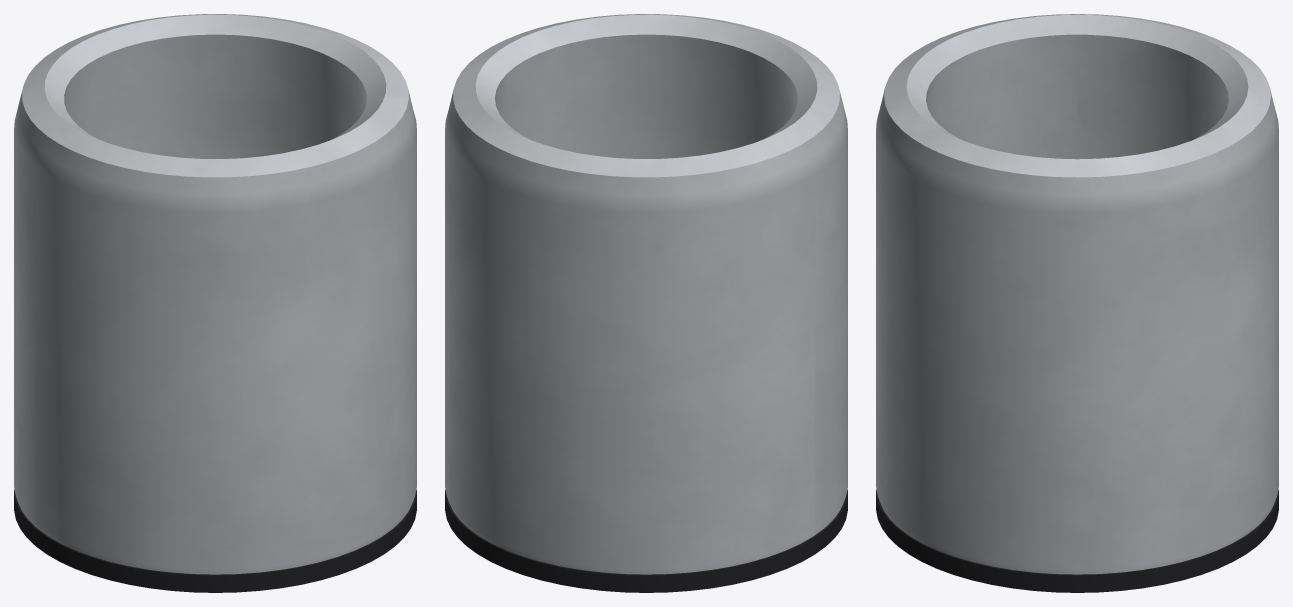
Rendered from jet06_pitot_intake.glb.
3 renders of one model, left to right at view 1: azimuth 30°, elevation 25°; view 2: azimuth 150°, elevation 25°; view 3: azimuth 270°, elevation 25°, orthographic.
Parts seen in each view (by area): view 1: duct, aft_flange; view 2: duct, aft_flange; view 3: duct, aft_flange.
Boxes of the visible parts, x1,y1,x2,y2 form: duct: (14, 14, 416, 574); aft_flange: (14, 489, 416, 592); duct: (445, 14, 847, 574); aft_flange: (445, 489, 847, 592); duct: (876, 14, 1278, 574); aft_flange: (876, 489, 1278, 592).
Bounding box in the file's own units: 1.25 × 1.44 × 1.25.
Materials: 2 (1 with a texture image).
